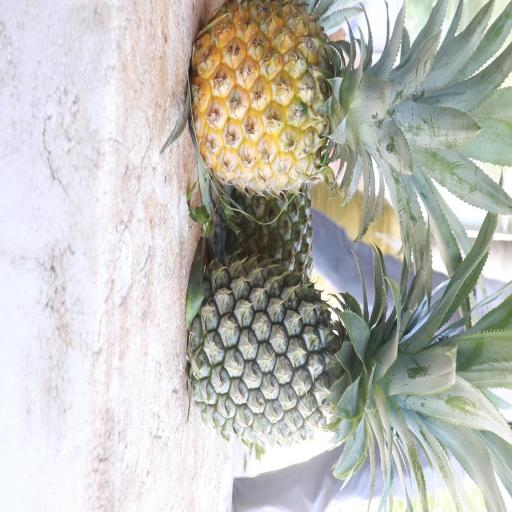Pineapple - v8 v1: (190, 1, 436, 204)
